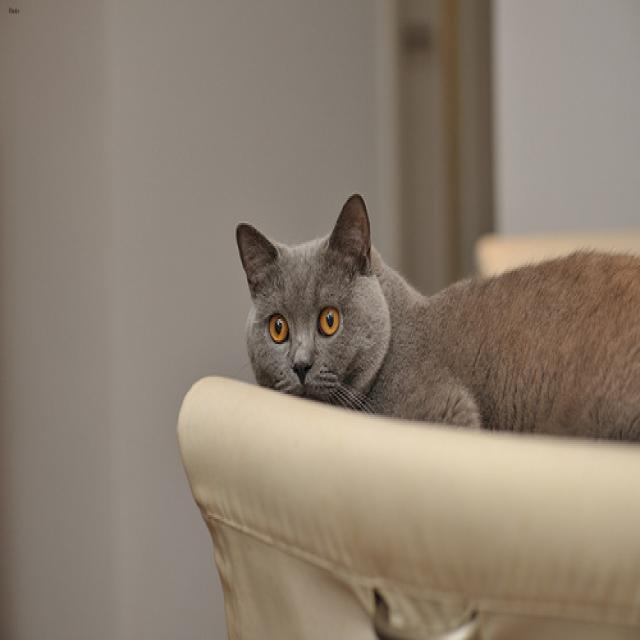British_Shorthair: (233, 186, 398, 410)
